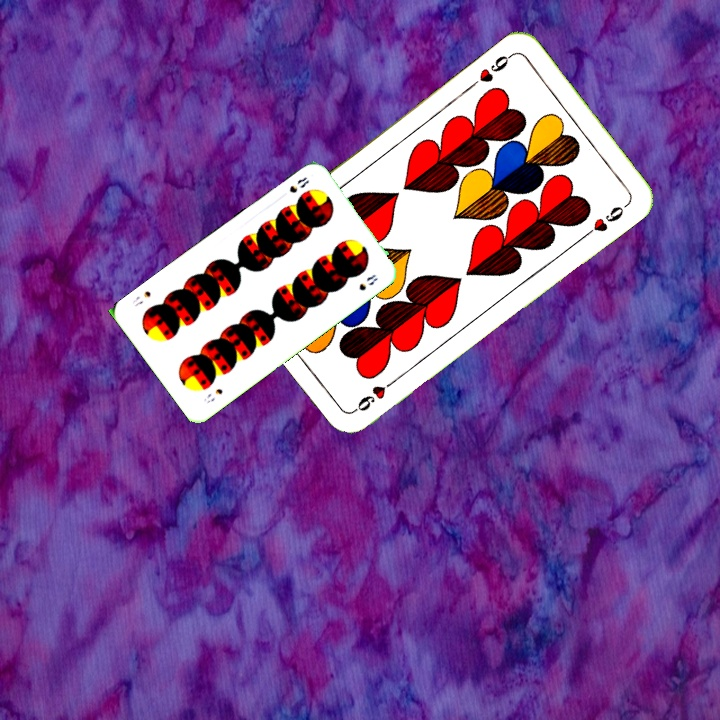H9: (466, 49, 516, 91), (349, 374, 400, 415)
S8: (285, 173, 312, 196), (199, 384, 225, 406)
